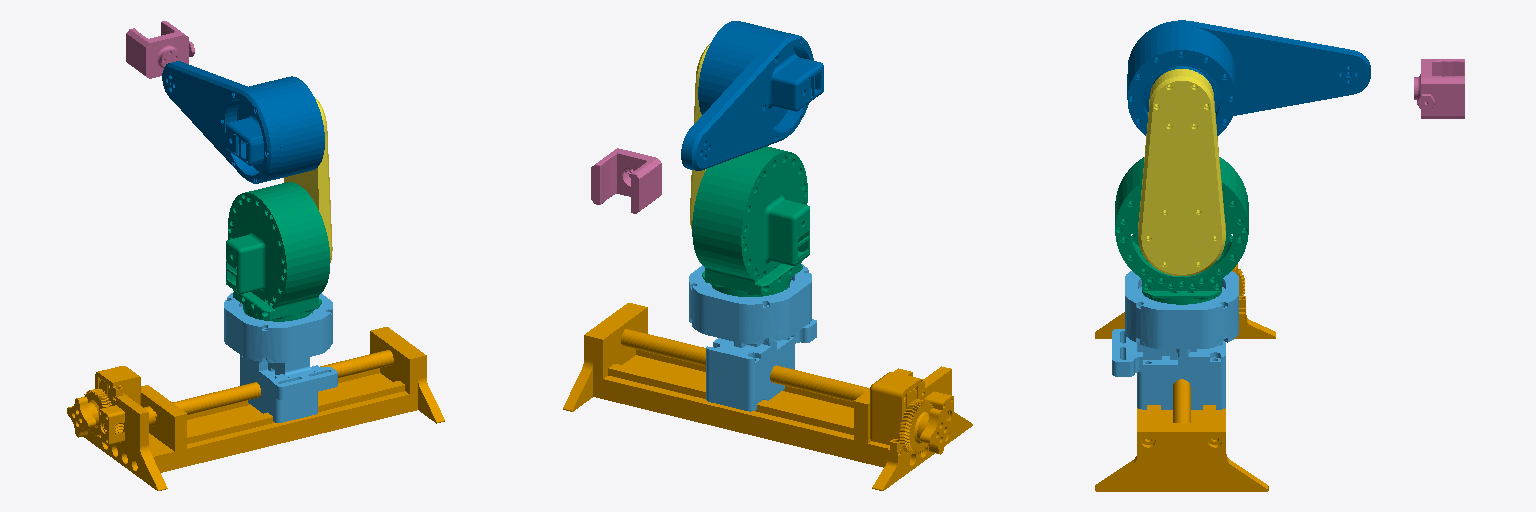
The robot description file, URDF, robot "momo_robot_arm_v2":
<?xml version="1.0" encoding="UTF-8"?>
<robot name="momo_robot_arm_v2">
  <link name="base_link">
    <visual>
      <origin xyz="0 0 0" rpy="0 0 0"/>
      <geometry>
        <mesh filename="../../meshes/v2/base_link.stl"/>
      </geometry>
    </visual>
    <collision>
      <origin xyz="0 0 0" rpy="0 0 0"/>
      <geometry>
        <mesh filename="../../meshes/v2/base_link.stl"/>
      </geometry>
    </collision>
  </link>
  <link name="Link_2">
    <visual>
      <origin xyz="0 0 0" rpy="0 0 0"/>
      <geometry>
        <mesh filename="../../meshes/v2/Link_2.stl"/>
      </geometry>
    </visual>
    <collision>
      <origin xyz="0 0 0" rpy="0 0 0"/>
      <geometry>
        <mesh filename="../../meshes/v2/Link_2.stl"/>
      </geometry>
    </collision>
  </link>
  <link name="Link_3">
    <visual>
      <origin xyz="0 0 0" rpy="0 0 0"/>
      <geometry>
        <mesh filename="../../meshes/v2/Link_3.stl"/>
      </geometry>
    </visual>
    <collision>
      <origin xyz="0 0 0" rpy="0 0 0"/>
      <geometry>
        <mesh filename="../../meshes/v2/Link_3.stl"/>
      </geometry>
    </collision>
  </link>
  <link name="Link_4">
    <visual>
      <origin xyz="0 0 0" rpy="0 0 0"/>
      <geometry>
        <mesh filename="../../meshes/v2/Link_4.stl"/>
      </geometry>
    </visual>
    <collision>
      <origin xyz="0 0 0" rpy="0 0 0"/>
      <geometry>
        <mesh filename="../../meshes/v2/Link_4.stl"/>
      </geometry>
    </collision>
  </link>
  <link name="Link_5">
    <visual>
      <origin xyz="0 0 0" rpy="0 0 0"/>
      <geometry>
        <mesh filename="../../meshes/v2/Link_5.stl"/>
      </geometry>
    </visual>
    <collision>
      <origin xyz="0 0 0" rpy="0 0 0"/>
      <geometry>
        <mesh filename="../../meshes/v2/Link_5.stl"/>
      </geometry>
    </collision>
  </link>
  <link name="Link_6">
    <visual>
      <origin xyz="0 0 0" rpy="0 0 0"/>
      <geometry>
        <mesh filename="../../meshes/v2/Link_6.stl"/>
      </geometry>
    </visual>
    <collision>
      <origin xyz="0 0 0" rpy="0 0 0"/>
      <geometry>
        <mesh filename="../../meshes/v2/Link_6.stl"/>
      </geometry>
    </collision>
  </link>
  <link name="Link_7">
    <visual>
      <origin xyz="0 0 0" rpy="0 0 0"/>
      <geometry>
        <mesh filename="../../meshes/v2/Link_7.stl"/>
      </geometry>
    </visual>
    <collision>
      <origin xyz="0 0 0" rpy="0 0 0"/>
      <geometry>
        <mesh filename="../../meshes/v2/Link_7.stl"/>
      </geometry>
    </collision>
  </link>
  <joint name="J10" type="prismatic">
    <parent link="base_link"/>
    <child link="Link_2"/>
    <origin xyz="0.025 0 0" rpy="1.57079633 0 1.57079633"/>
    <axis xyz="0 0 1"/>
    <limit lower="-0.1" upper="0.1" effort="100" velocity="0.1"/>
  </joint>
  <joint name="J11" type="revolute">
    <parent link="Link_2"/>
    <child link="Link_3"/>
    <origin xyz="0.000145 0.089 -0.02500505" rpy="0 -1.57079633 -1.57079633"/>
    <axis xyz="0 0 -1"/>
    <limit lower="-3.14159" upper="3.14159" effort="10" velocity="1"/>
  </joint>
  <joint name="J12" type="revolute">
    <parent link="Link_3"/>
    <child link="Link_4"/>
    <origin xyz="0.02599998 0 0.06700005" rpy="1.57079633 0 1.57079633"/>
    <axis xyz="0 0 1"/>
    <limit lower="-3.14159" upper="3.14159" effort="10" velocity="1"/>
  </joint>
  <joint name="J13" type="revolute">
    <parent link="Link_4"/>
    <child link="Link_5"/>
    <origin xyz="0 0.12999998 -5e-8" rpy="0 0 0"/>
    <axis xyz="0 0 1"/>
    <limit lower="-3.14159" upper="3.14159" effort="10" velocity="1"/>
  </joint>
  <joint name="J14" type="revolute">
    <parent link="Link_5"/>
    <child link="Link_6"/>
    <origin xyz="0.14999991 3e-8 -0.063" rpy="0 0 0"/>
    <axis xyz="0 0 1"/>
    <limit lower="-3.14159" upper="3.14159" effort="10" velocity="1"/>
  </joint>
  <joint name="J15" type="revolute">
    <parent link="Link_6"/>
    <child link="Link_7"/>
    <origin xyz="0.06139999 -0.00440002 0.03045014" rpy="1.57079633 0 -1.57079633"/>
    <axis xyz="0 0 1"/>
    <limit lower="-3.14159" upper="3.14159" effort="10" velocity="1"/>
  </joint>
</robot>

--- Render facts (derived) ---
3 views of the same robot in one strip: view 1: azimuth 30°, elevation 25°; view 2: azimuth 150°, elevation 25°; view 3: azimuth 270°, elevation 25° (orthographic).
Robot: momo_robot_arm_v2 — 7 links, 6 joints (5 revolute, 1 prismatic); root link base_link; default pose: all joints at 0.
Links seen in each view (by area): view 1: base_link, Link_5, Link_3, Link_2, Link_7, Link_4; view 2: base_link, Link_3, Link_5, Link_2, Link_7, Link_4; view 3: Link_5, Link_4, Link_2, base_link, Link_3, Link_7.
Link boxes in pixels (x1,y1,x2,y2): base_link: [67, 327, 444, 490]; Link_5: [162, 61, 324, 183]; Link_3: [226, 182, 329, 321]; Link_2: [224, 293, 337, 422]; Link_7: [126, 21, 194, 78]; Link_4: [284, 98, 332, 262]; base_link: [563, 303, 972, 490]; Link_3: [692, 146, 809, 296]; Link_5: [681, 21, 823, 170]; Link_2: [689, 264, 816, 411]; Link_7: [591, 148, 661, 213]; Link_4: [690, 43, 710, 228]; Link_5: [1127, 20, 1370, 135]; Link_4: [1138, 69, 1225, 275]; Link_2: [1112, 271, 1238, 409]; base_link: [1095, 264, 1275, 491]; Link_3: [1115, 157, 1248, 304]; Link_7: [1414, 59, 1464, 118].
Bounding box of the posed robot: 0.367 × 0.3325 × 0.38 m (x, y, z).
6 mesh visuals loaded from 7 distinct referenced files (6 binary STL); not drawn: 1 (reference not matched to a file when rendering).
